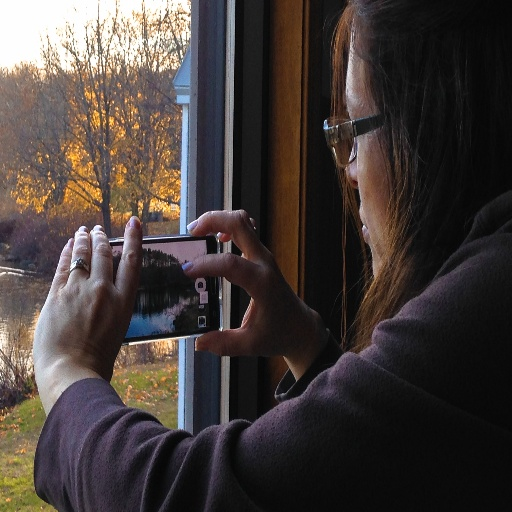hand: (179, 208, 318, 358), (49, 213, 144, 429)
